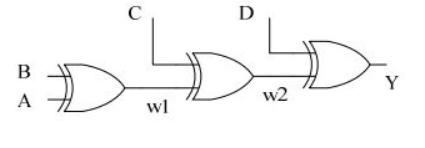xor: (56, 58, 130, 117), (300, 37, 373, 94), (185, 47, 255, 104)
